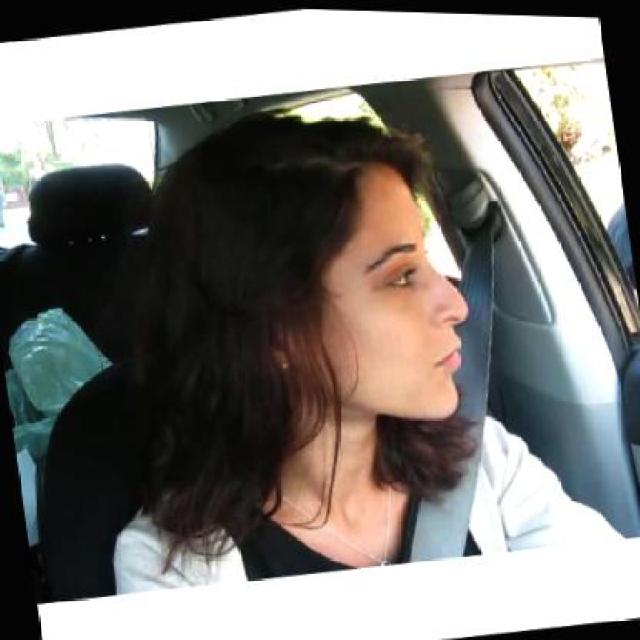attentif: (231, 85, 484, 440)
